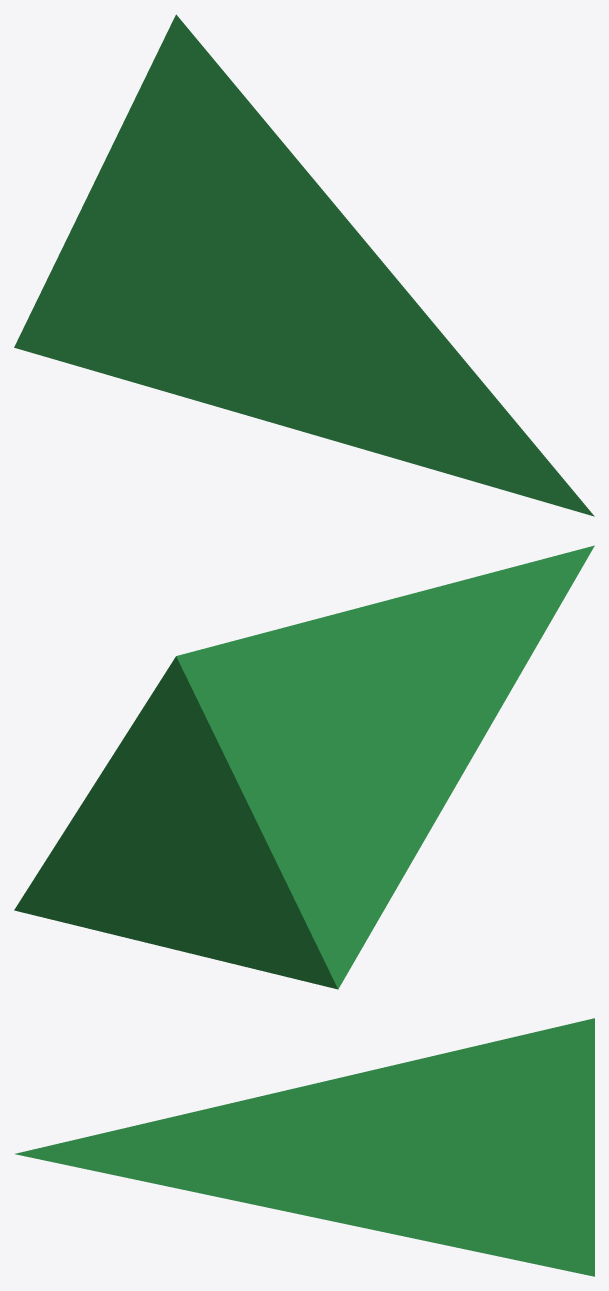
Rendered from TriangleProjectile.fbx.
3 views of the same model, one above another, from view 1: azimuth 30°, elevation 25°; view 2: azimuth 150°, elevation 25°; view 3: azimuth 270°, elevation 25° (orthographic). The views are drawn at different scales.
Visible parts, largest first — view 1: Projectile; view 2: Projectile; view 3: Projectile.
Boxes of the visible parts, box(x1,y1,x2,y2) form: Projectile: box(14, 14, 594, 516); Projectile: box(14, 545, 594, 989); Projectile: box(15, 1018, 594, 1276).
Bounding box in the file's own units: 55.43 × 48 × 124.
